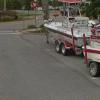Boat: (36, 10, 98, 70)
